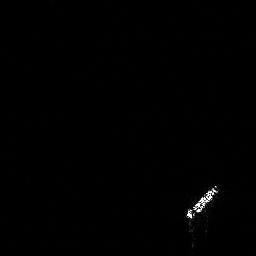ship: (180, 180, 225, 224)
